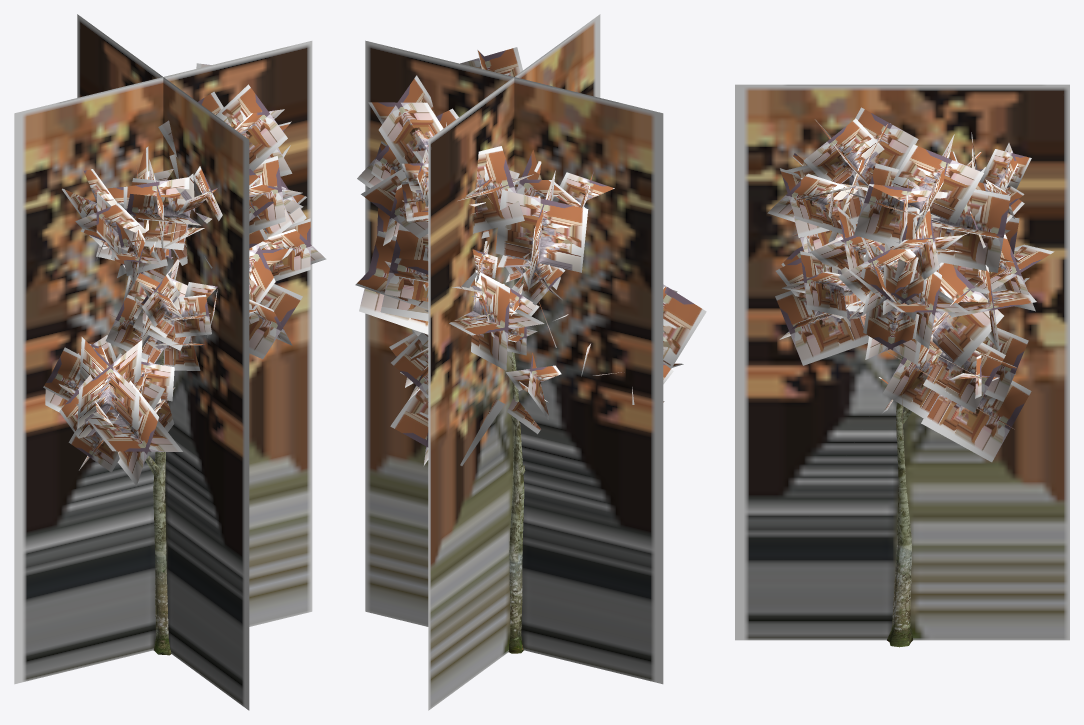
File: Tree-Beech1D-mobile.fbx
The picture shows the model from 3 angles, left to right: view 1: azimuth 30°, elevation 25°; view 2: azimuth 150°, elevation 25°; view 3: azimuth 270°, elevation 25°; orthographic projection. The views are drawn at different scales.
Visible parts, largest first — view 1: Billboard-BeechD, Tree-Beech1D-mobile_LOD0; view 2: Billboard-BeechD, Tree-Beech1D-mobile_LOD0; view 3: Billboard-BeechD, Tree-Beech1D-mobile_LOD0.
Part boxes in pixels (x1,y1,x2,y2): Billboard-BeechD: [14, 14, 312, 710]; Tree-Beech1D-mobile_LOD0: [43, 63, 326, 655]; Billboard-BeechD: [365, 14, 663, 710]; Tree-Beech1D-mobile_LOD0: [355, 47, 706, 653]; Billboard-BeechD: [735, 84, 1069, 640]; Tree-Beech1D-mobile_LOD0: [767, 107, 1054, 647].
Size of what is drawn, in the model's own units: 1253 by 2294 by 1253.
